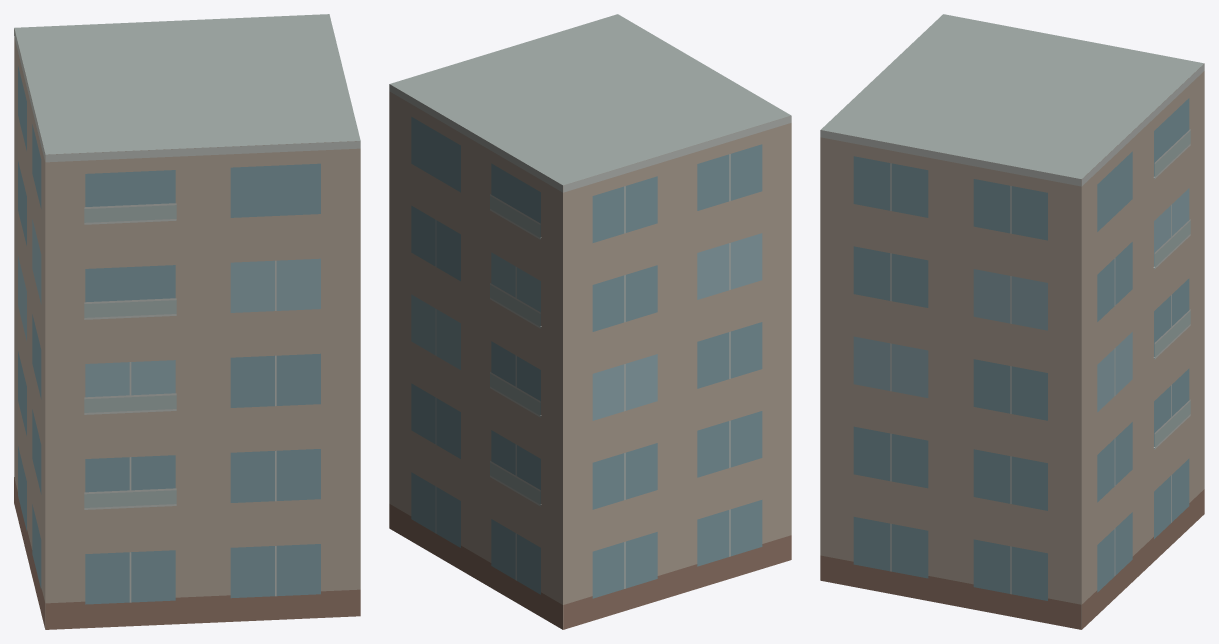
The model's file is survey-upis-32530750.glb.
3 views of the same model, side by side, from view 1: azimuth 30°, elevation 25°; view 2: azimuth 150°, elevation 25°; view 3: azimuth 270°, elevation 25° (orthographic). The views are drawn at different scales.
Visible parts, largest first — view 1: survey-upis-32530750.tmp; view 2: survey-upis-32530750.tmp; view 3: survey-upis-32530750.tmp.
Part boxes in pixels (box(x1,y1,x2,y2)): survey-upis-32530750.tmp: box(14, 14, 360, 629); survey-upis-32530750.tmp: box(389, 14, 791, 629); survey-upis-32530750.tmp: box(820, 14, 1204, 629).
Bounding box in the file's own units: 11.72 × 14.9 × 11.52.
